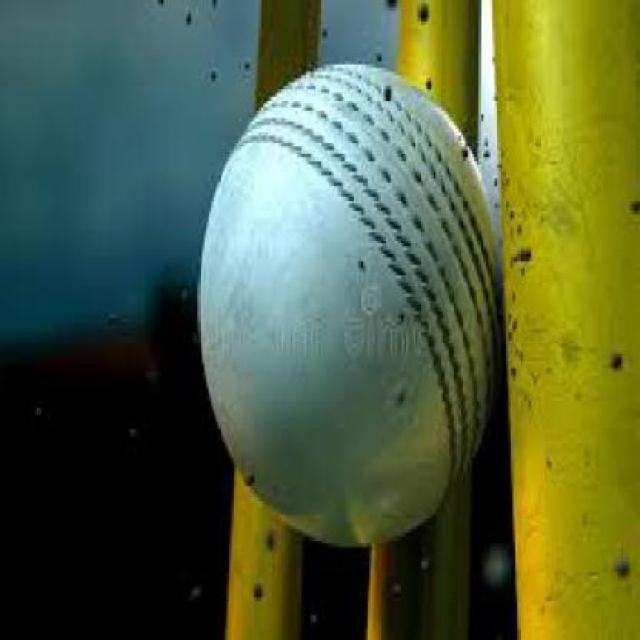ball: (146, 39, 544, 569)
